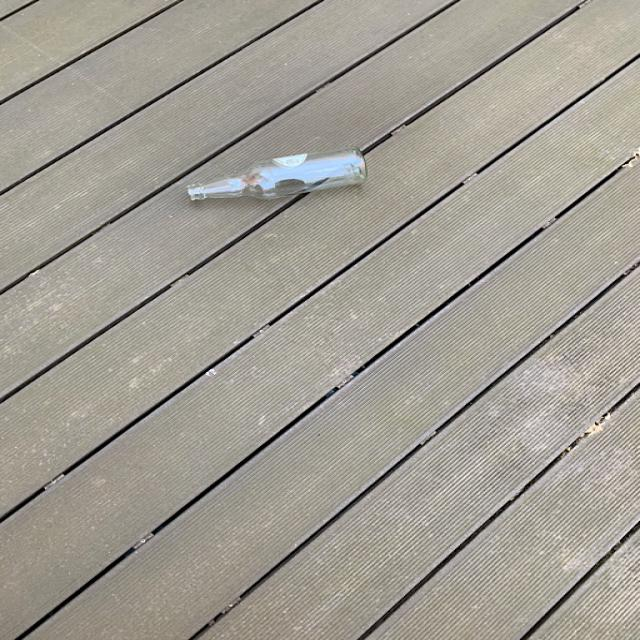litter: (179, 147, 380, 206)
